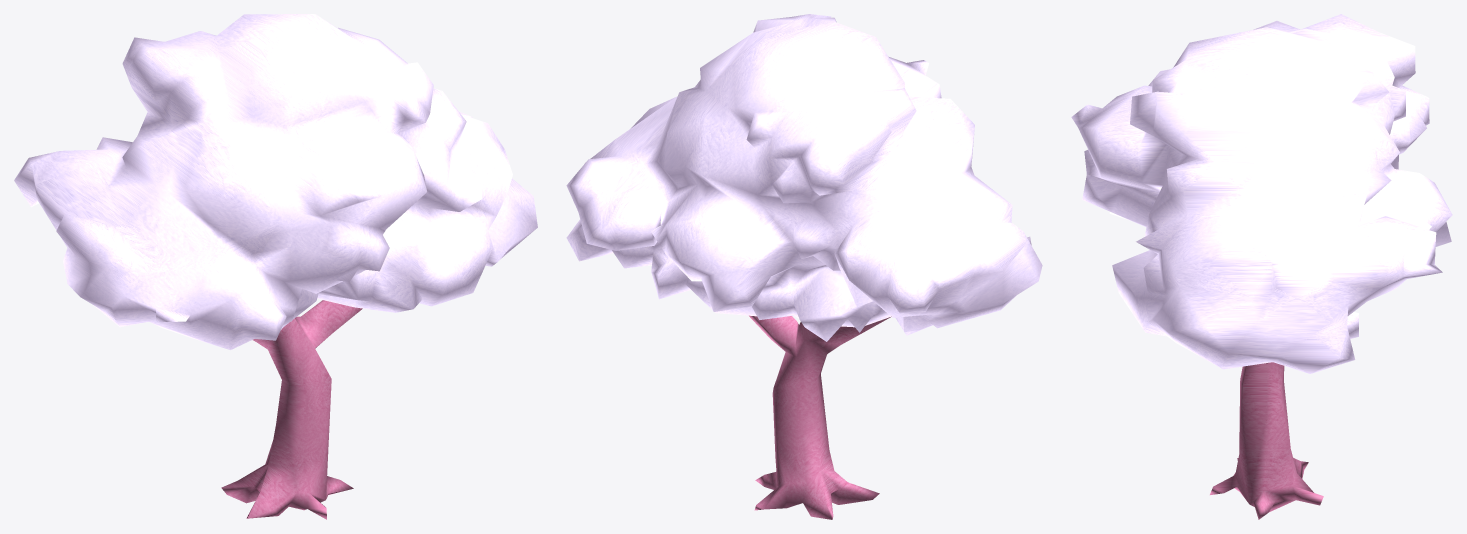
The model's file is snow64-tree.glb.
The picture shows the model from 3 angles, left to right: view 1: azimuth 30°, elevation 25°; view 2: azimuth 150°, elevation 25°; view 3: azimuth 270°, elevation 25°; orthographic projection. The views are drawn at different scales.
Visible parts, largest first — view 1: Cloud, Trunk; view 2: Cloud, Trunk; view 3: Cloud, Trunk.
Boxes of the visible parts, box(x1,y1,x2,y2) form: Cloud: box(14, 14, 537, 349); Trunk: box(221, 300, 362, 519); Cloud: box(566, 14, 1042, 341); Trunk: box(749, 315, 891, 519); Cloud: box(1071, 14, 1452, 373); Trunk: box(1210, 362, 1323, 519).
Bounding box in the file's own units: 4.38 × 4.59 × 3.41.
2 materials, 2 textured.
